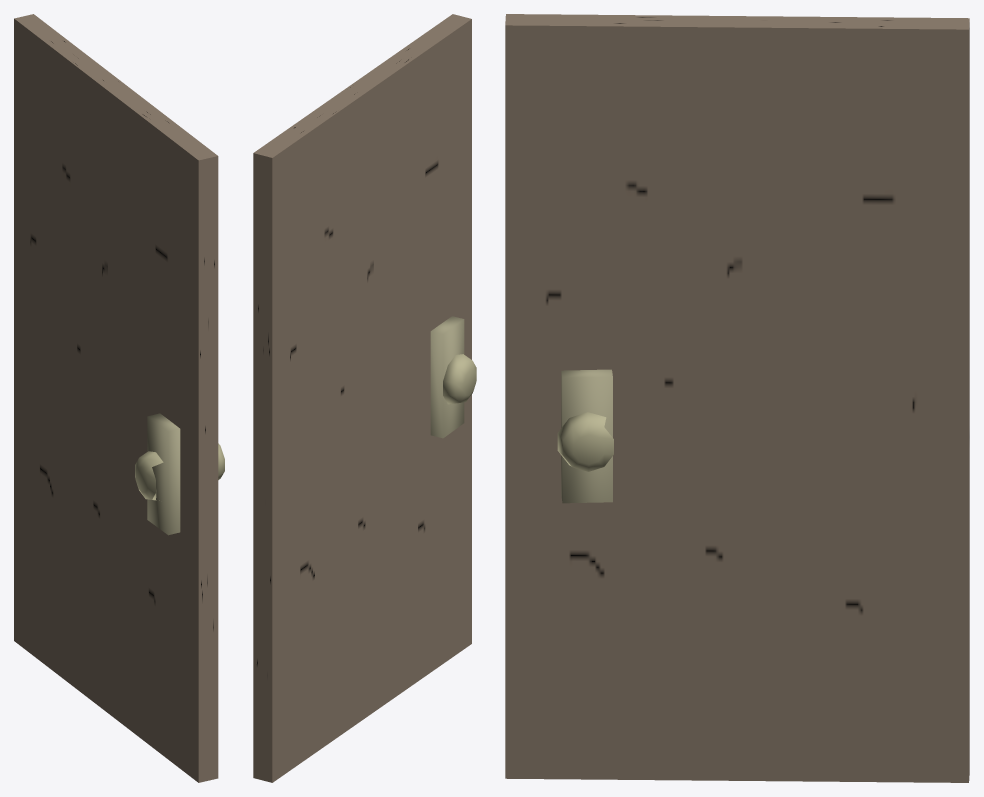
File: doortogarage.obj
The picture shows the model from 3 angles, left to right: view 1: azimuth 30°, elevation 25°; view 2: azimuth 150°, elevation 25°; view 3: azimuth 270°, elevation 25°; orthographic projection. The views are drawn at different scales.
Parts seen in each view (by area): view 1: DoorToGarage_Cube.003; view 2: DoorToGarage_Cube.003; view 3: DoorToGarage_Cube.003.
Boxes of the visible parts, x1,y1,x2,y2 form: DoorToGarage_Cube.003: [14, 14, 224, 782]; DoorToGarage_Cube.003: [253, 14, 476, 782]; DoorToGarage_Cube.003: [505, 14, 969, 782].
Bounding box in the file's own units: 0.3432 × 2.52 × 1.41.
1 material, 1 textured.
